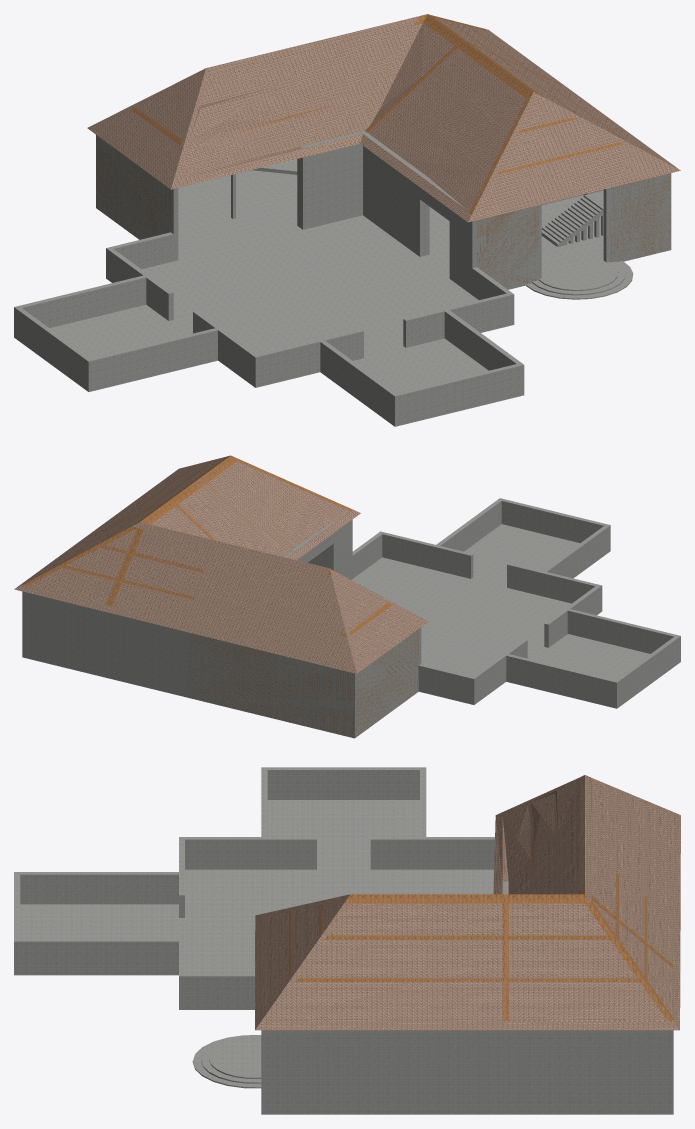
Rendered from Newcomers_Guild_Roofed.fbx.
3 views of the same model, one above another, from view 1: azimuth 30°, elevation 25°; view 2: azimuth 150°, elevation 25°; view 3: azimuth 270°, elevation 25° (orthographic). The views are drawn at different scales.
Visible parts, largest first — view 1: SketchUp, ID129, ID225, ID15, ID65, ID28, ID121, ID345, ID73, ID44; view 2: SketchUp, ID129, ID15, ID225, ID121, ID377, ID385, ID401, ID345; view 3: SketchUp, ID129, ID121, ID353, ID361, ID377, ID385, ID401.
Boxes of the visible parts, bbox=[...] form: SketchUp: bbox=[14, 144, 633, 426]; ID129: bbox=[87, 16, 680, 222]; ID225: bbox=[368, 48, 525, 211]; ID15: bbox=[96, 135, 300, 239]; ID65: bbox=[609, 173, 671, 262]; ID28: bbox=[477, 205, 538, 289]; ID121: bbox=[248, 14, 624, 213]; ID345: bbox=[172, 134, 471, 222]; ID73: bbox=[541, 194, 603, 246]; ID44: bbox=[300, 131, 467, 210]; SketchUp: bbox=[22, 498, 680, 708]; ID129: bbox=[14, 456, 428, 673]; ID15: bbox=[188, 629, 418, 738]; ID225: bbox=[178, 461, 349, 556]; ID121: bbox=[23, 455, 352, 606]; ID377: bbox=[66, 547, 126, 577]; ID385: bbox=[112, 582, 192, 606]; ID401: bbox=[123, 555, 202, 579]; ID345: bbox=[287, 509, 360, 560]; SketchUp: bbox=[14, 767, 673, 1114]; ID129: bbox=[255, 775, 680, 1030]; ID121: bbox=[295, 775, 673, 1021]; ID353: bbox=[508, 939, 637, 978]; ID361: bbox=[508, 903, 607, 935]; ID377: bbox=[618, 923, 644, 976]; ID385: bbox=[647, 899, 673, 964]; ID401: bbox=[618, 875, 644, 939].
Bounding box in the file's own units: 3585 × 3184 × 886.
Materials: 3 (3 with a texture image).
